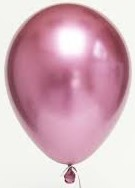Balloon: (5, 3, 131, 165)
